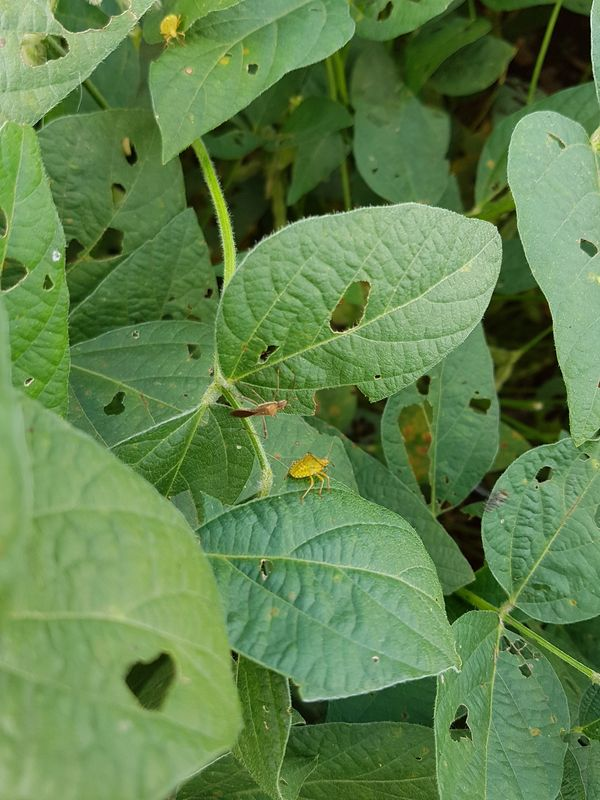Euschistus_heros_ninfa: (275, 435, 342, 504), (150, 8, 192, 52)
